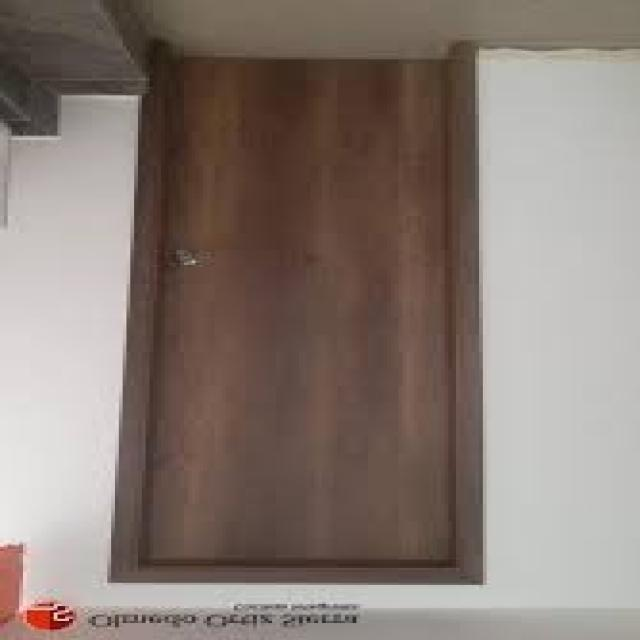door: (111, 44, 483, 585)
